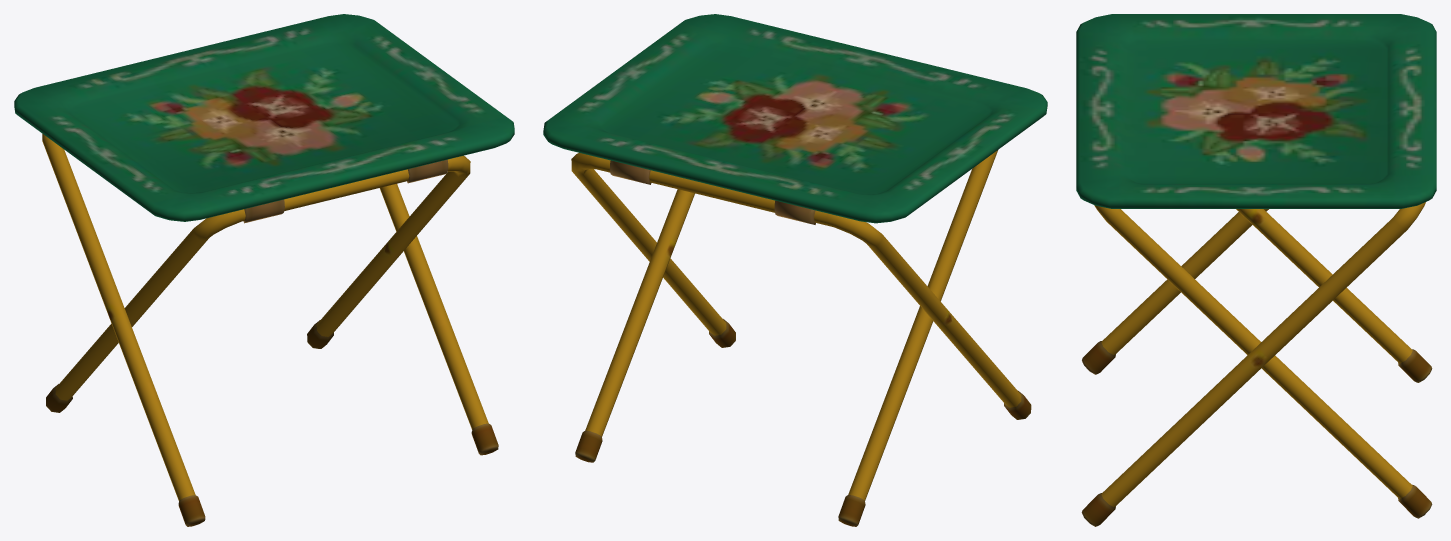
3 views of the same model, side by side, from view 1: azimuth 30°, elevation 25°; view 2: azimuth 150°, elevation 25°; view 3: azimuth 270°, elevation 25° (orthographic). The views are drawn at different scales.
Bounding box in the file's own units: 9.33 × 8 × 7.6.
2 materials, 2 textured.
